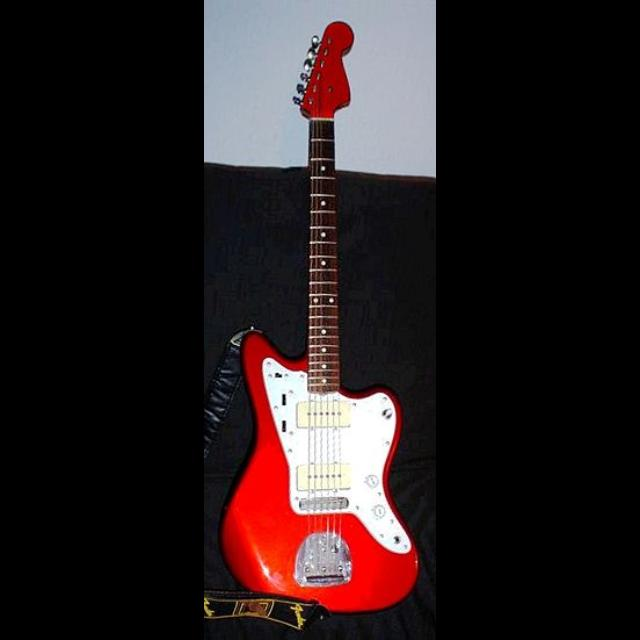Electric-Guitar: (218, 21, 418, 616)
